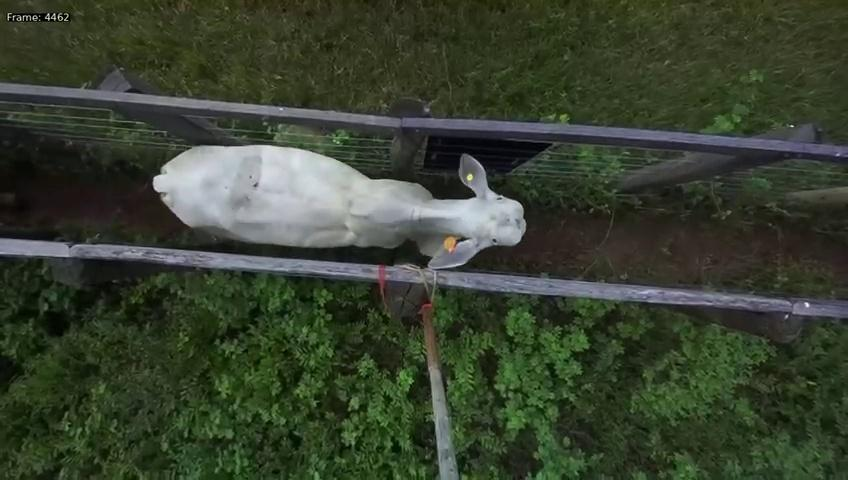cattle: (150, 140, 527, 268)
